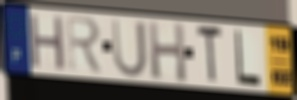H: (146, 19, 189, 85), (28, 12, 67, 73)
L: (234, 27, 263, 88)
R: (64, 14, 105, 77)
T: (195, 23, 224, 86)
U: (110, 17, 149, 80)
